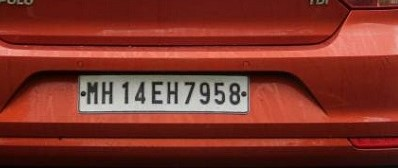MH14EH7958: (78, 74, 248, 112)
